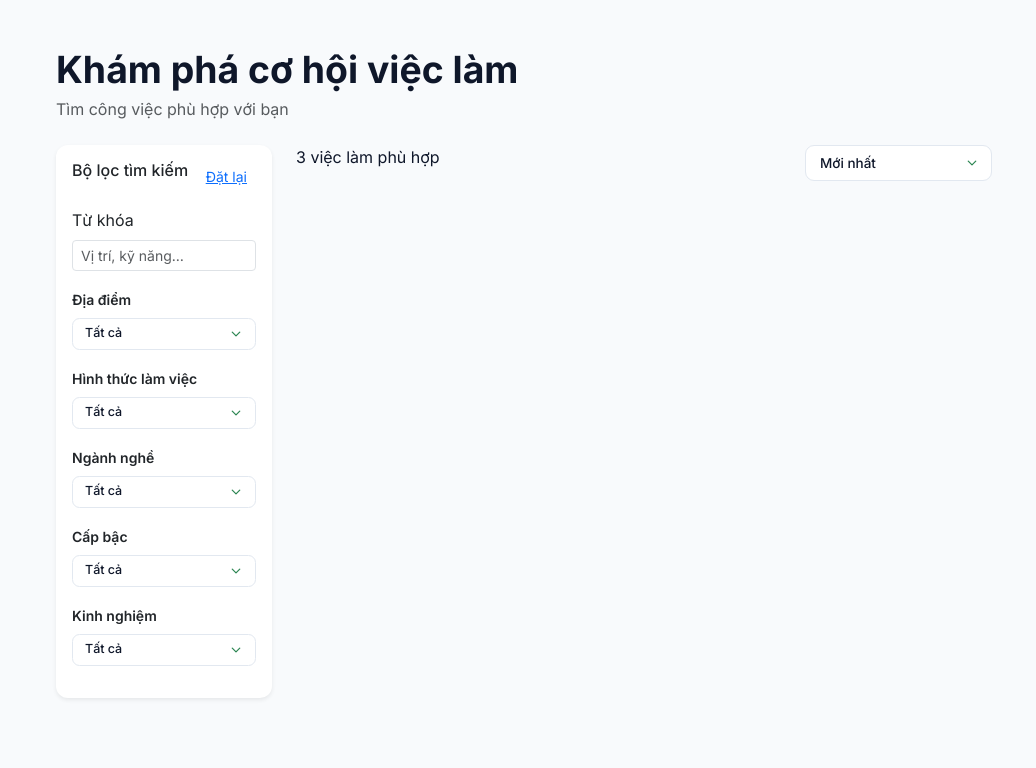
Test case: giữ dropdown địa điểm/kinh nghiệm và đồng bộ lựa chọn lên URL
Select "1–3 năm" in the dropdown labelled "Kinh nghiệm" at (164, 650), box [72, 634, 256, 666]
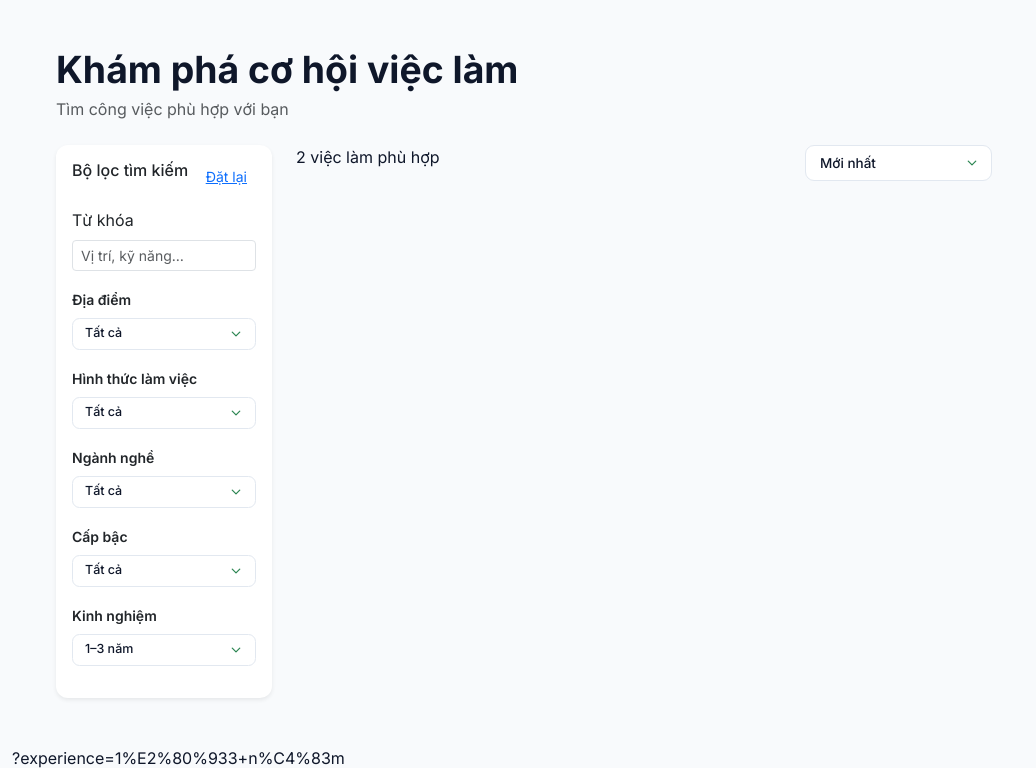
Select "Độ phù hợp cao nhất" in the dropdown named "Sắp xếp" at (899, 163), box [805, 145, 992, 181]
(page scrolled)
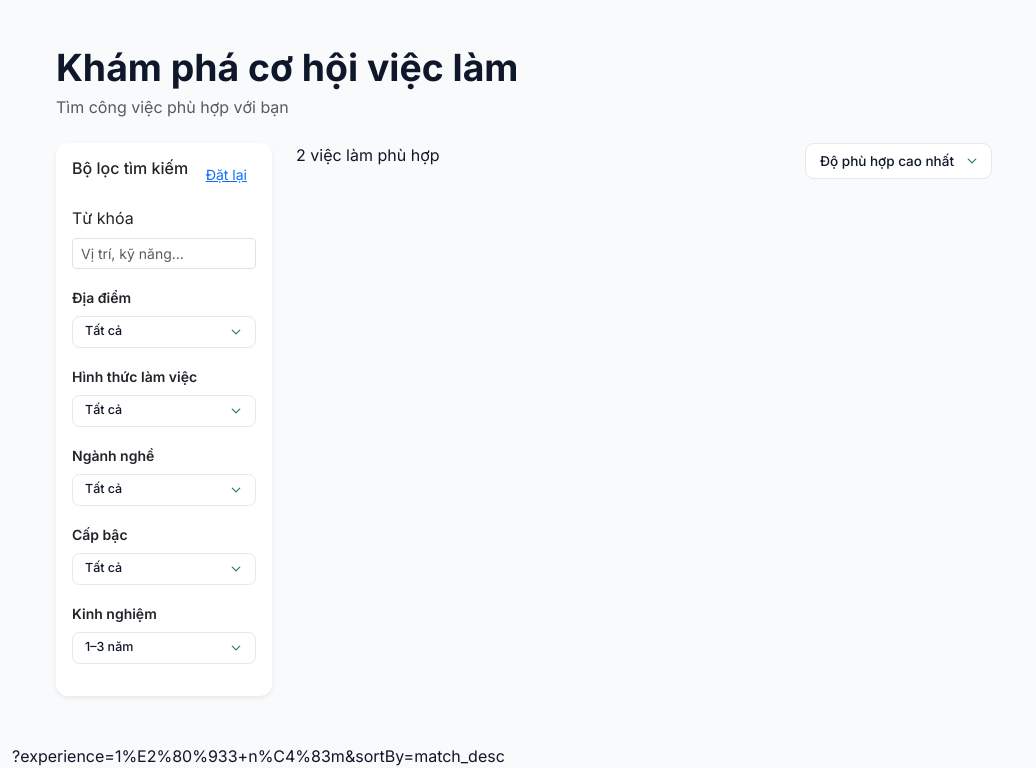
Result: the text with test id "url" shows "sortBy=match_desc" at [12, 746, 505, 766]
